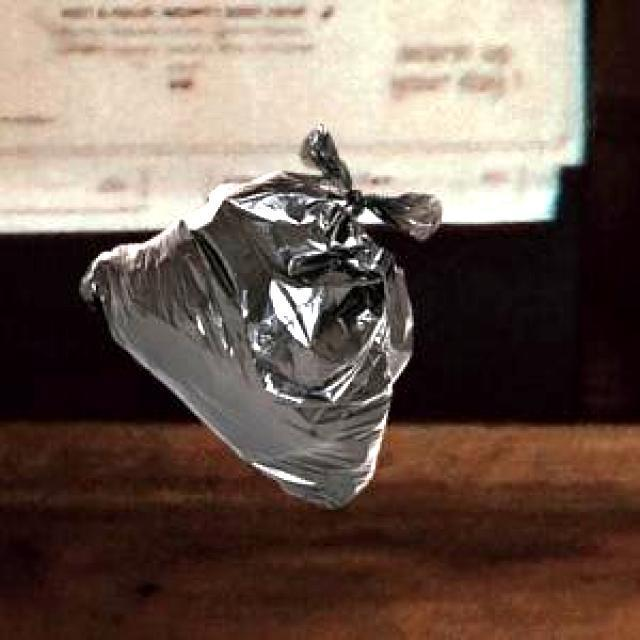Bolsa-de-nilon: (73, 118, 445, 515)
